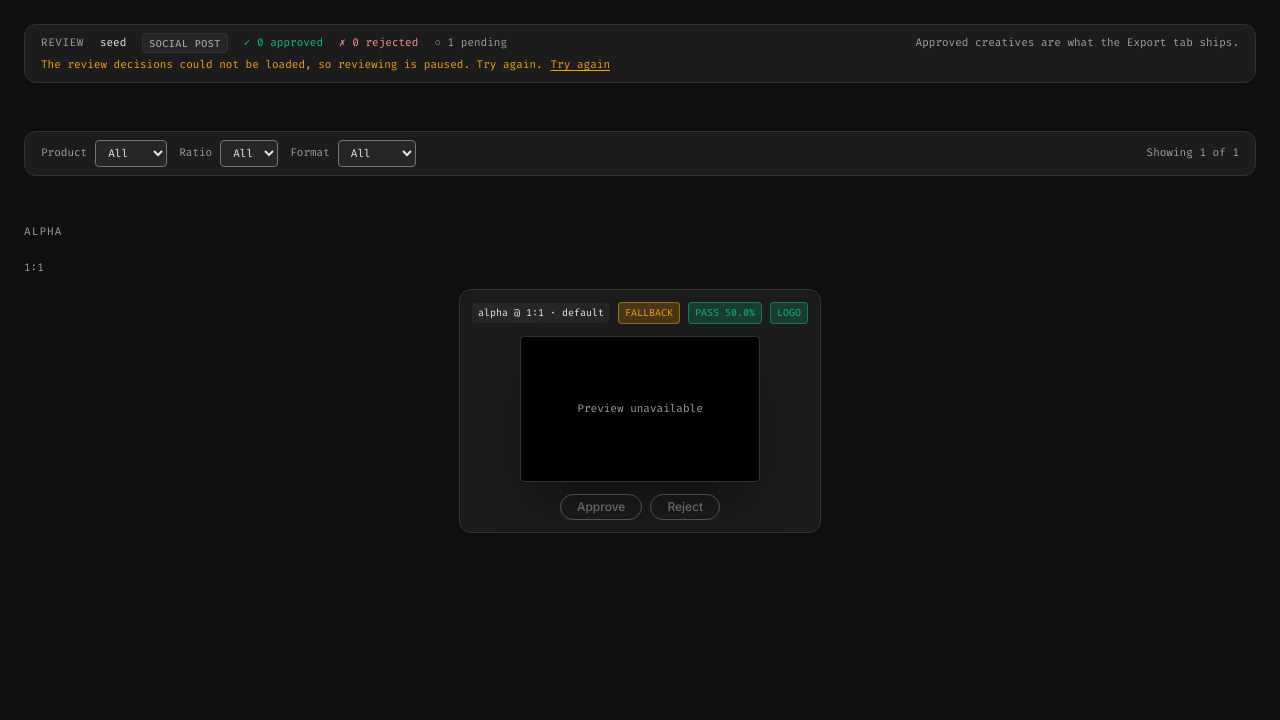
Test: GridPage › decisions that could not be loaded say so on the review bar, pause the verdicts, and Try again loads them
Expected: the message shows "The review decisions could not be loaded, so reviewing is paused. Try again.", x1=41 y1=57 x2=543 y2=72
Expected: the button "Approve" is disabled, x1=560 y1=494 x2=642 y2=520
Click the button "Try again". click: (580, 65)
box: x1=551 y1=57 x2=610 y2=74
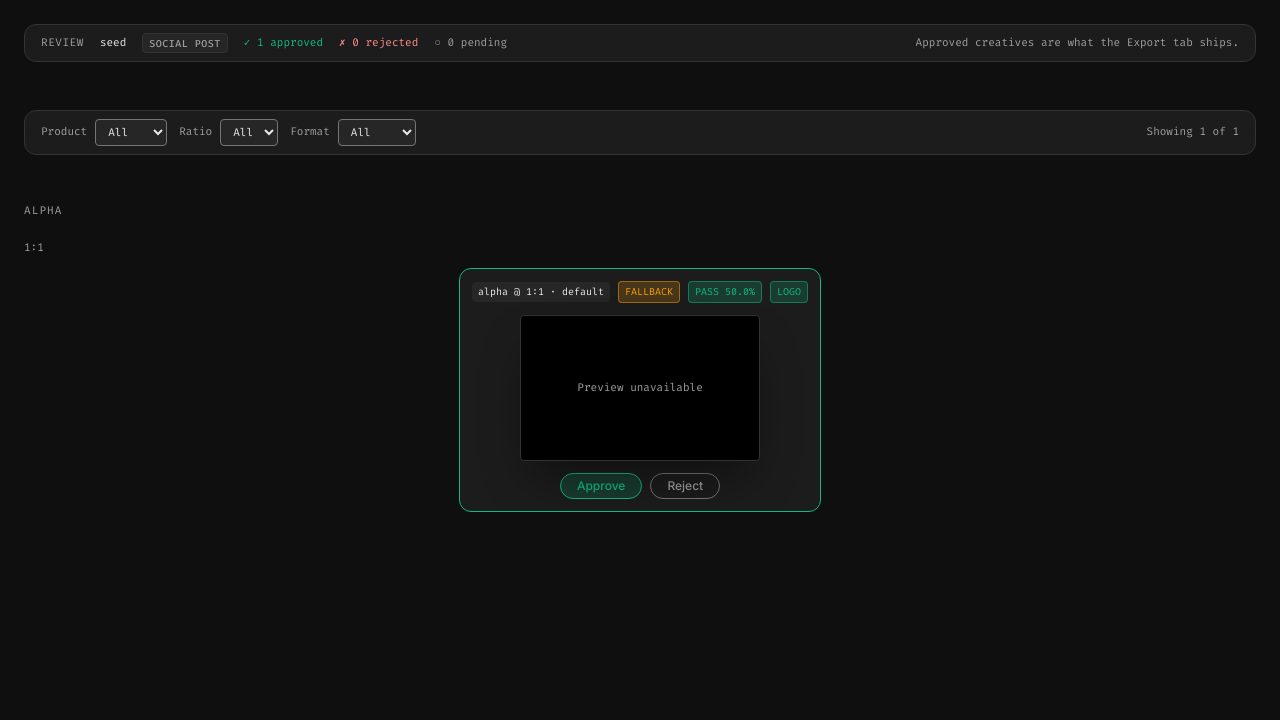
Now the text "✓ 1 approved" is shown, box x1=244 y1=35 x2=323 y2=51
Now the button "Approve" is enabled, box x1=560 y1=473 x2=642 y2=499
Now the message is gone
